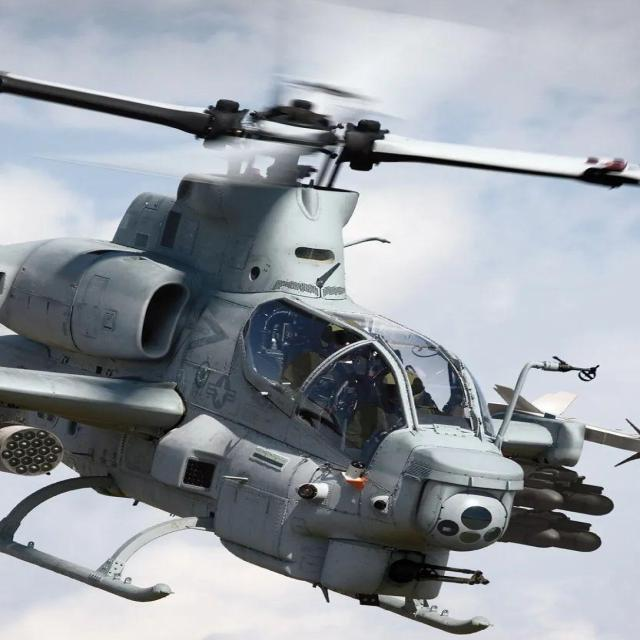MIL_HELO: (0, 48, 640, 630)
